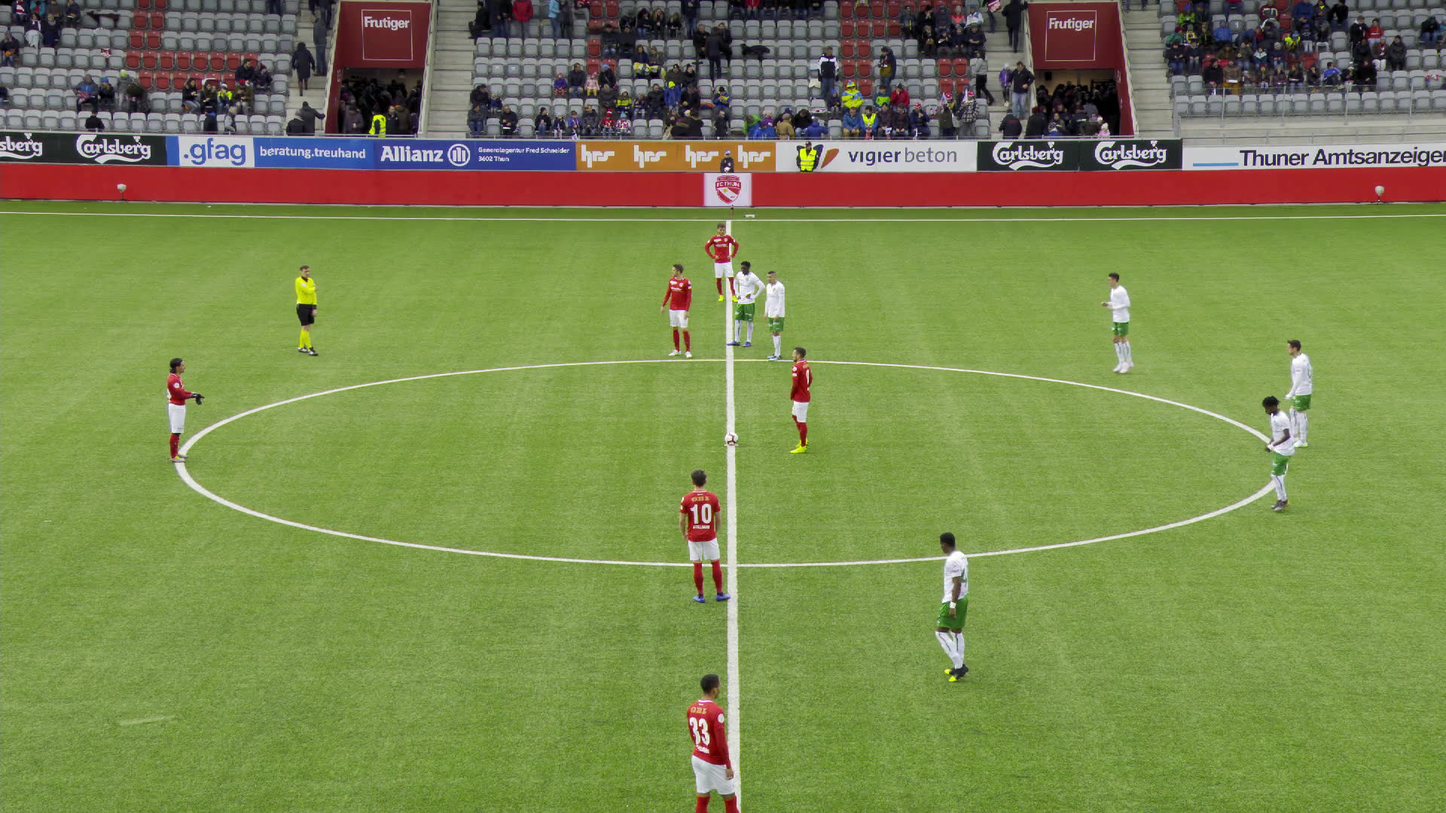ball: (724, 431, 740, 446)
player: (685, 672, 738, 811), (679, 469, 731, 602), (934, 532, 972, 683), (1100, 273, 1139, 375), (1259, 394, 1292, 513), (166, 357, 203, 463), (1280, 338, 1314, 448), (725, 260, 764, 347), (660, 262, 693, 359), (703, 222, 738, 303), (789, 347, 813, 455), (763, 269, 786, 360)
referee: (291, 263, 319, 355)
